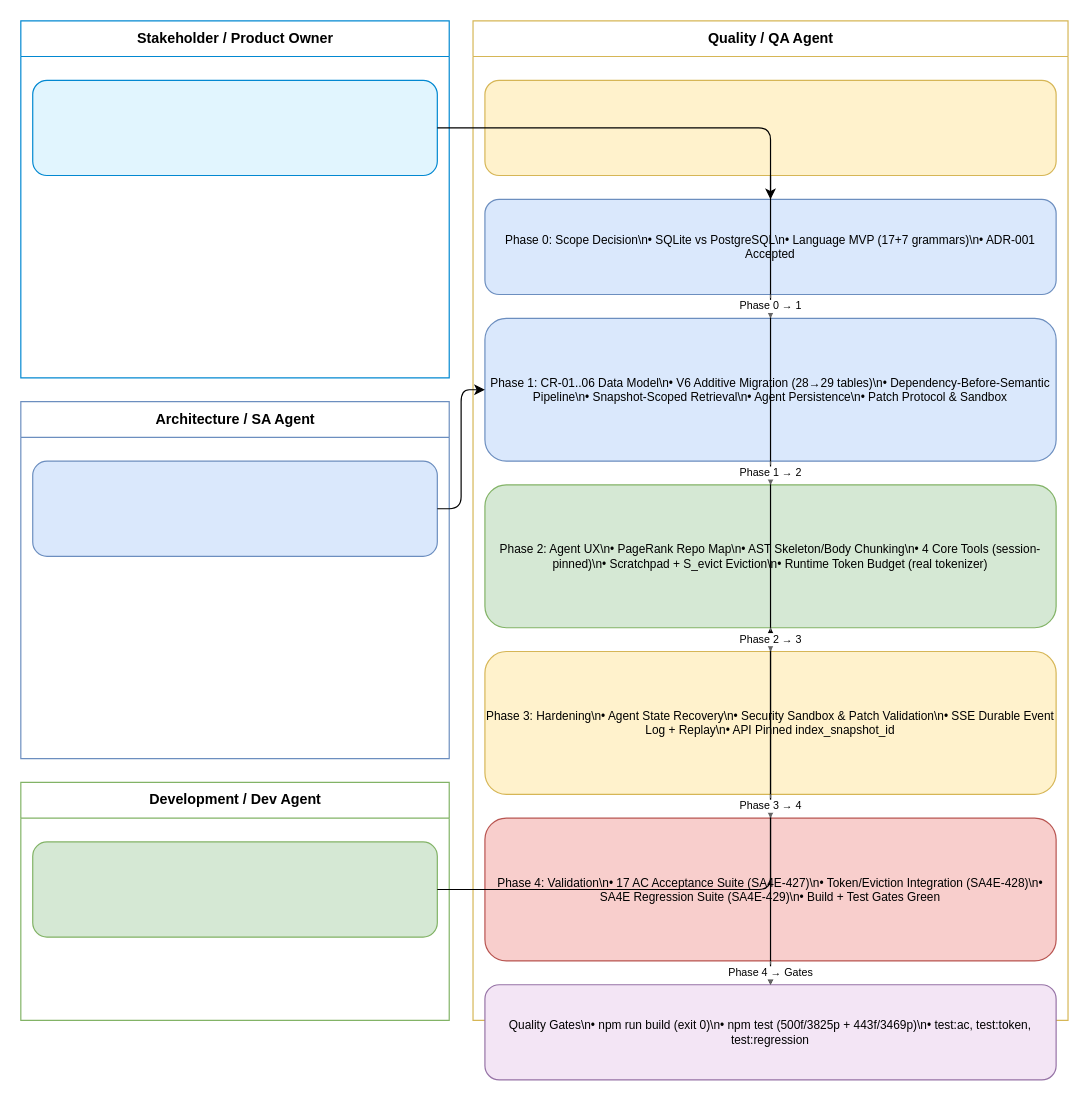
Image size: 1089x1101. Some labels were removed from this diagram. The centre of each missing label's shape, as x and y in pixels:
"Dev Agent\n(18 Stories Impl)" belongs at point 234,889.
"Product Owner\n(Scope Decision)" belongs at point 234,127.
"QA Agent\n(AC Suite + Integration + Regression)" belongs at point 770,127.
"Solution Architect\n(ADR-001, TDD-01)" belongs at point 234,508.
